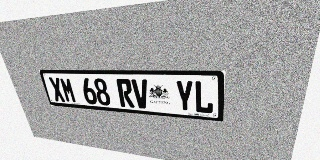6: (80, 78, 98, 105)
8: (93, 78, 111, 106)
L: (194, 81, 214, 114)
M: (59, 77, 77, 103)
R: (116, 79, 135, 108)
V: (131, 79, 150, 109)
X: (48, 77, 66, 102)
Y: (175, 80, 194, 113)
